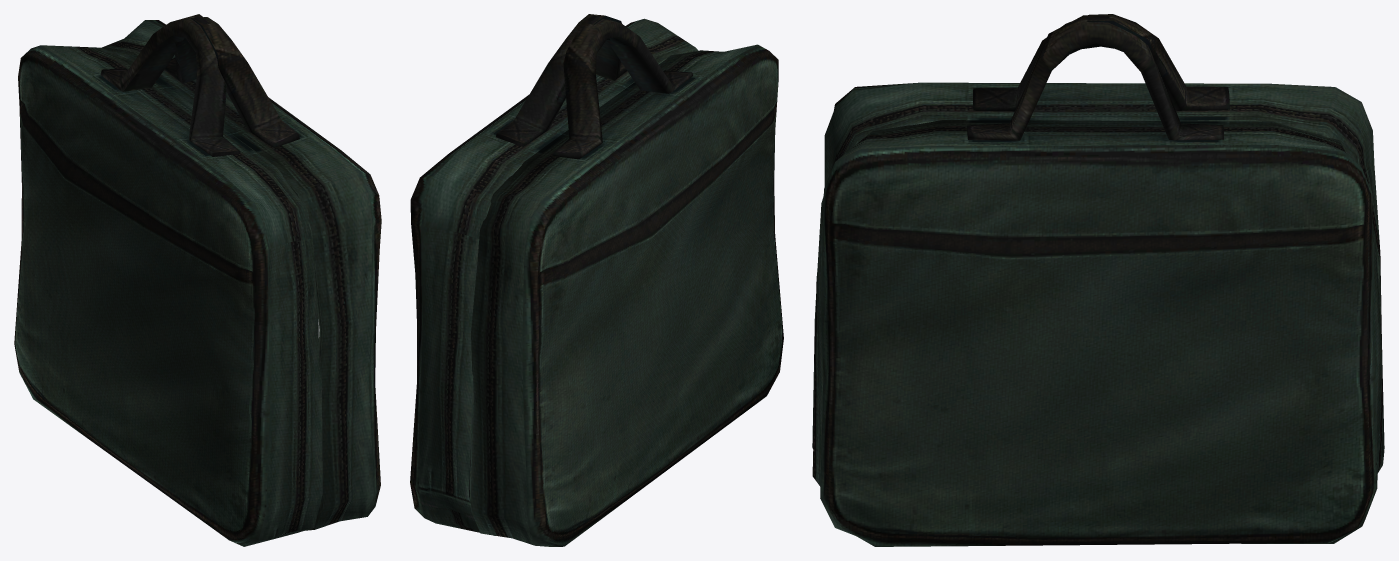
File: Paramedic_Bag.obj
The picture shows the model from 3 angles, left to right: view 1: azimuth 30°, elevation 25°; view 2: azimuth 150°, elevation 25°; view 3: azimuth 270°, elevation 25°; orthographic projection. The views are drawn at different scales.
Bounding box in the file's own units: 0.3778 × 0.8276 × 0.862.
Materials: 1 (1 with a texture image).
